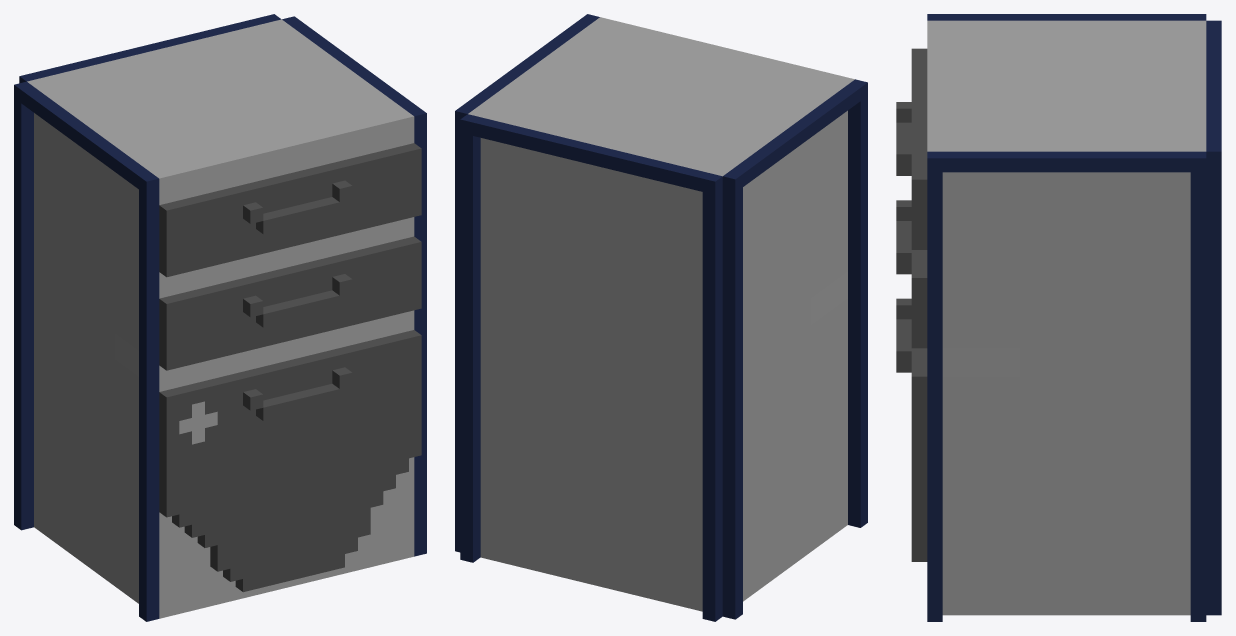
Rendered from ClosedCabinetObj.obj.
The picture shows the model from 3 angles, left to right: view 1: azimuth 30°, elevation 25°; view 2: azimuth 150°, elevation 25°; view 3: azimuth 270°, elevation 25°; orthographic projection. The views are drawn at different scales.
Size of the model in its own units: 2.2 by 3.3 by 2.1.
1 material, 1 textured.
